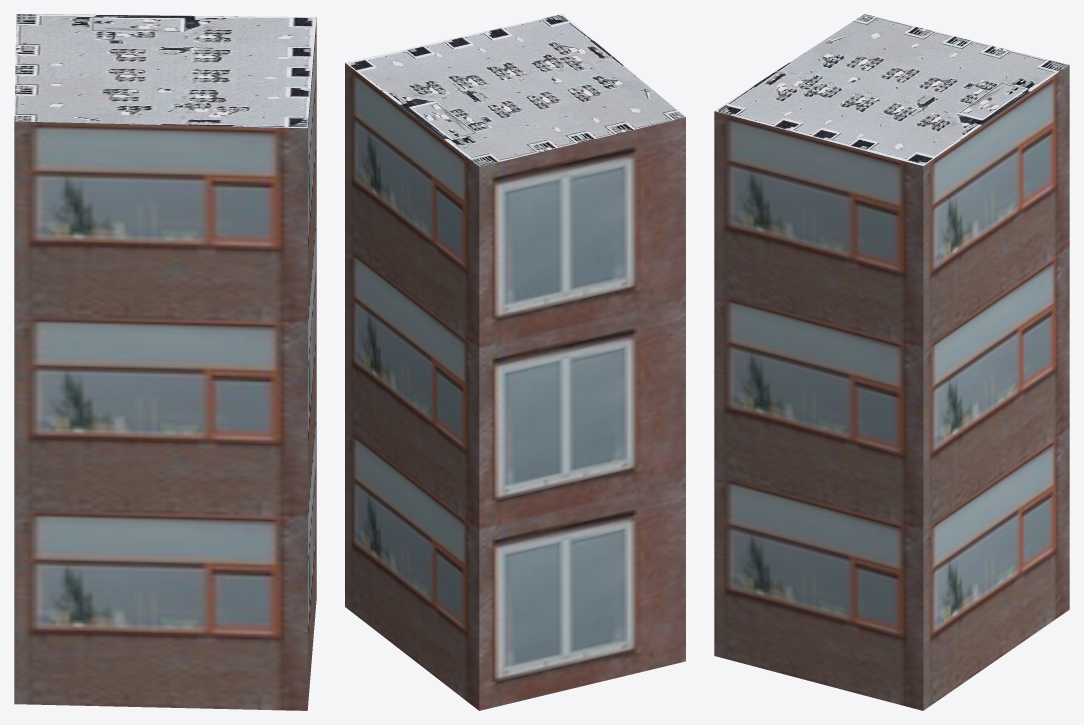
The model's file is ResTex__4289.fbx.
The picture shows the model from 3 angles, left to right: view 1: azimuth 30°, elevation 25°; view 2: azimuth 150°, elevation 25°; view 3: azimuth 270°, elevation 25°; orthographic projection. The views are drawn at different scales.
Visible parts, largest first — view 1: CityEngineMaterial_19_m, CityEngineMaterial_15_m; view 2: CityEngineMaterial_19_m, CityEngineMaterial_15_m; view 3: CityEngineMaterial_19_m, CityEngineMaterial_15_m.
Boxes of the visible parts, x1,y1,x2,y2 form: CityEngineMaterial_19_m: [14, 18, 316, 710]; CityEngineMaterial_15_m: [14, 14, 316, 128]; CityEngineMaterial_19_m: [345, 63, 685, 710]; CityEngineMaterial_15_m: [345, 14, 685, 166]; CityEngineMaterial_19_m: [714, 65, 1069, 710]; CityEngineMaterial_15_m: [714, 14, 1068, 165].
Size of the model in its own units: 5.39 by 9 by 5.32.
2 materials, 2 textured.
